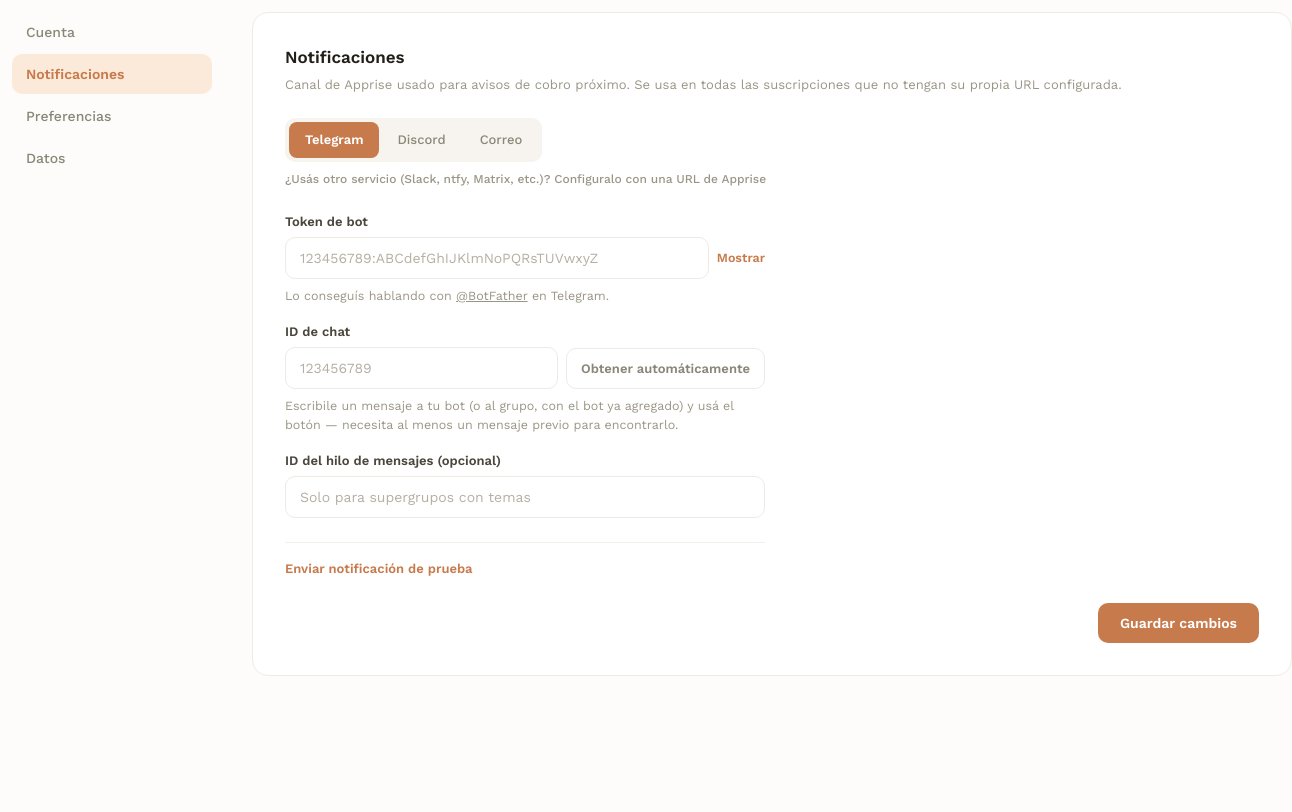
it: notification channel selection › switches to email fields
Click the button "Correo".
click(501, 140)  # box left=464, top=122, right=538, bottom=158
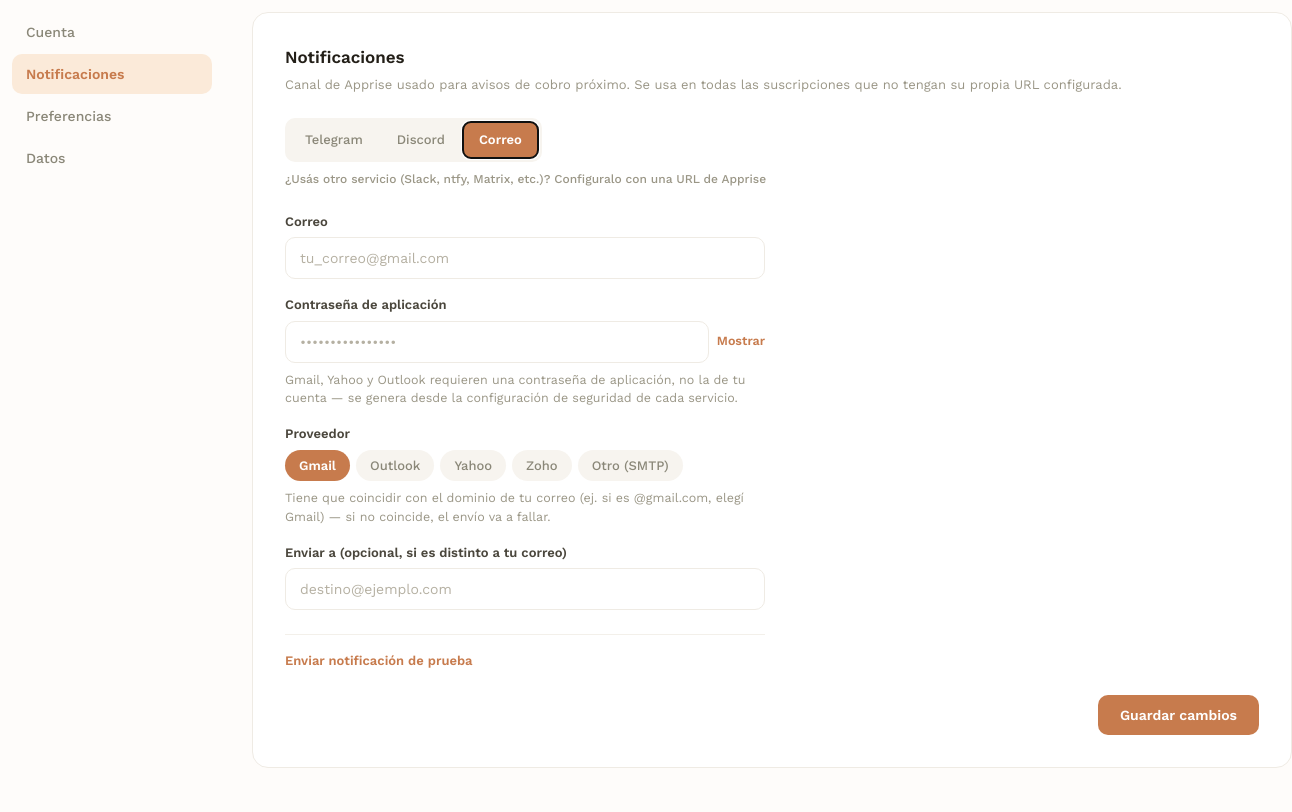
Now the text "Contraseña de aplicación" is shown, box left=285, top=297, right=446, bottom=312
